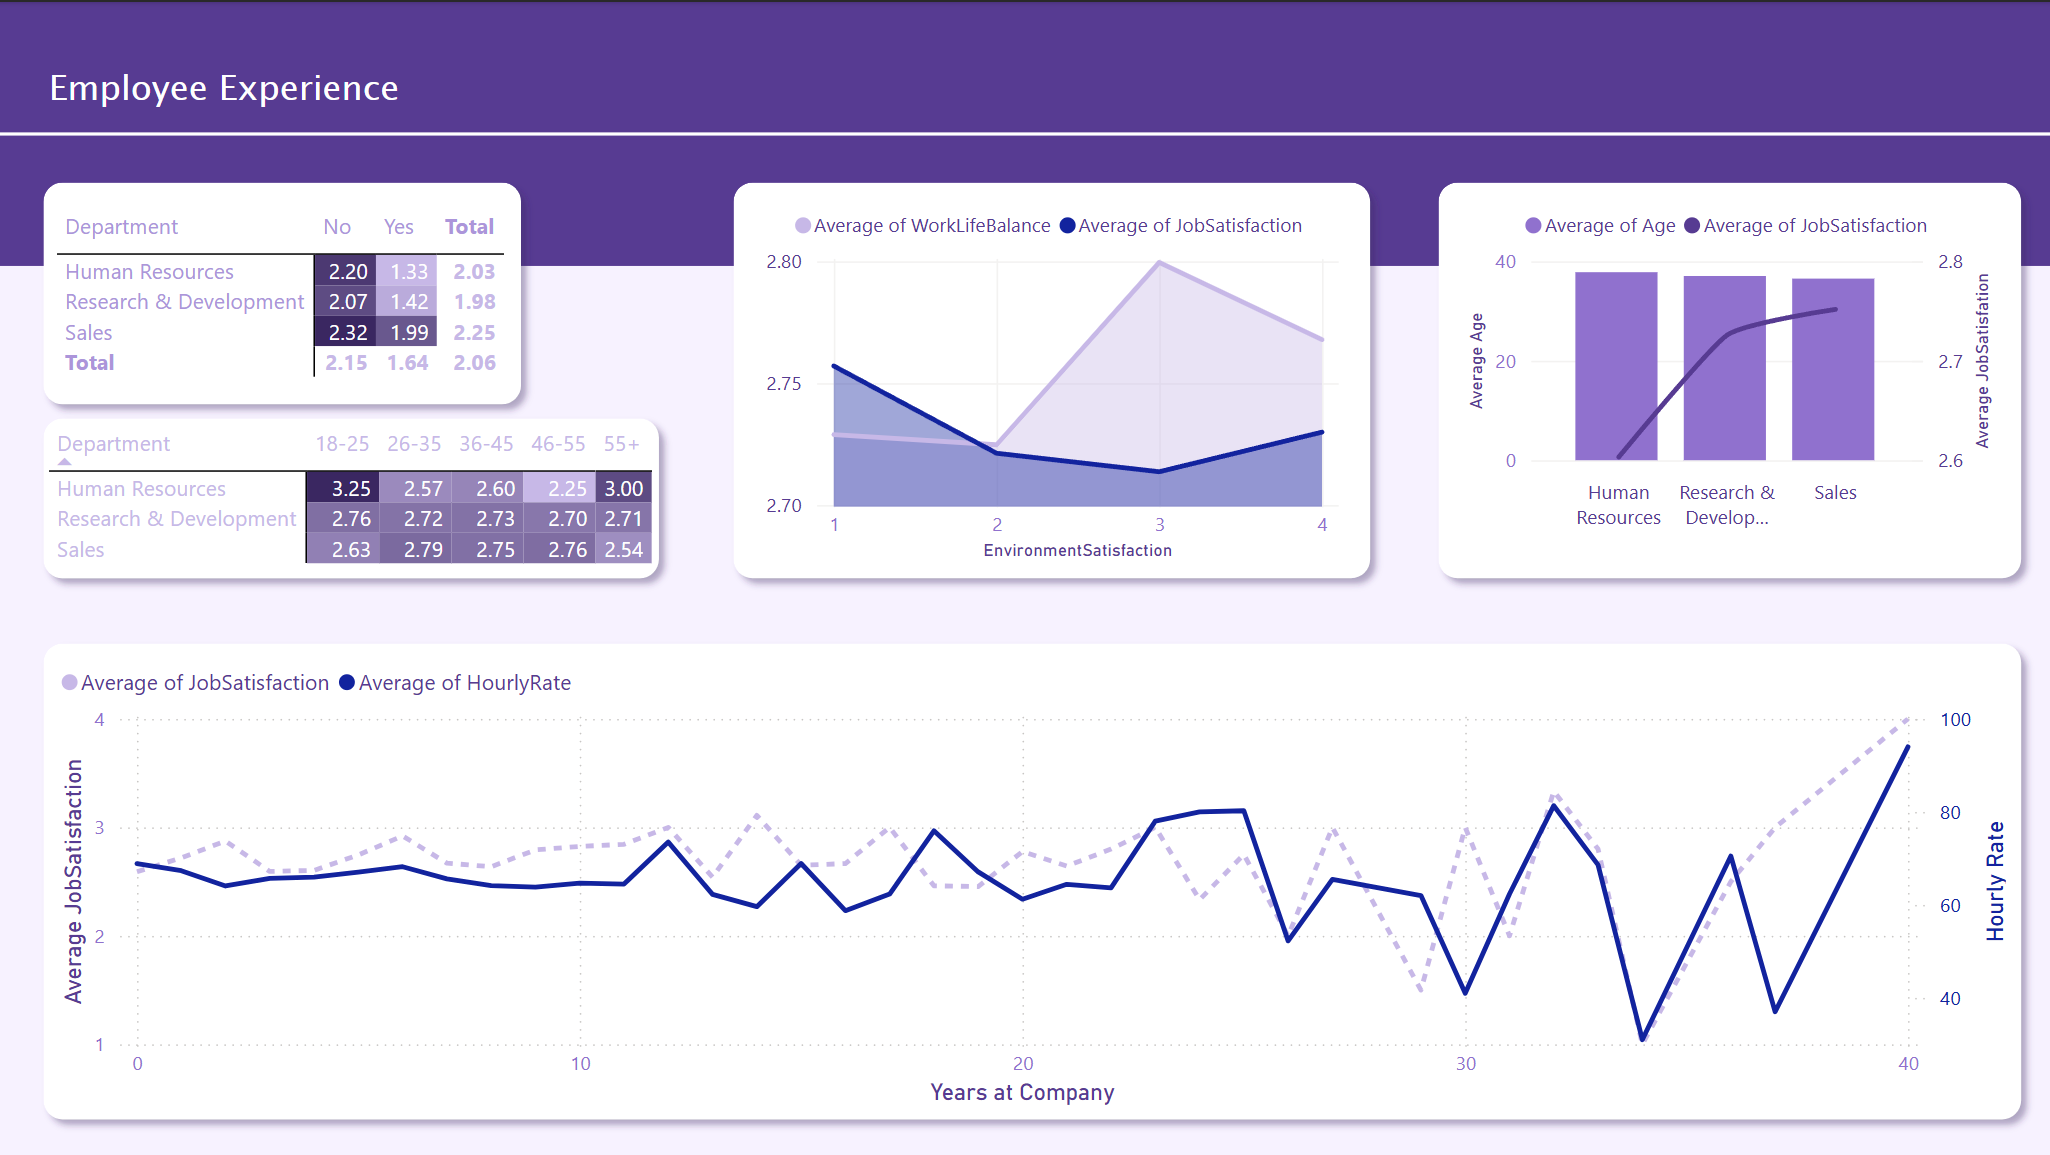

The dashboard page shown, as its layout file describes it:
{"tool":"powerbi","page":{"name":"Employee Experience","canvas":[1280,720],"ordinal":1},"visuals":[{"type":"shape","box":[18.1,391.2,1252.2,315.1],"z":0},{"type":"shape","box":[18.1,250.8,402.4,117.9],"z":1000},{"type":"shape","box":[0,0,1280.3,164.7],"z":2000},{"type":"shape","box":[888.5,103.6,381.8,265.2],"z":3000},{"type":"shape","box":[448.6,103.6,415.5,265.2],"z":4000},{"type":"shape","box":[18.1,103.6,316.3,156.6],"z":5000},{"type":"lineClusteredColumnComboChart","fields":{"Category":["HR_Analytics.Department"],"Y":["Avg(HR_Analytics.Age)"],"Y2":["Avg(HR_Analytics.JobSatisfaction)"]},"box":[910.9,119.8,336.9,233.3],"z":6000},{"type":"lineChart","fields":{"Y":["Avg(HR_Analytics.JobSatisfaction)"],"Category":["HR_Analytics.YearsAtCompany"],"Y2":["Avg(HR_Analytics.HourlyRate)"]},"box":[32.4,404.3,1223.5,289.5],"z":7000},{"type":"areaChart","fields":{"Y":["Avg(HR_Analytics.WorkLifeBalance)","Avg(HR_Analytics.JobSatisfaction)"],"Category":["HR_Analytics.EnvironmentSatisfaction"]},"box":[472.3,119.8,368.1,233.3],"z":8000},{"type":"pivotTable","fields":{"Rows":["HR_Analytics.Department"],"Columns":["HR_Analytics.AgeGroup"],"Values":["Avg(HR_Analytics.JobSatisfaction)"]},"box":[25.6,260.2,388.1,99.8],"z":9000},{"type":"pivotTable","fields":{"Rows":["HR_Analytics.Department"],"Columns":["HR_Analytics.Attrition"],"Values":["Avg(HR_Analytics.JobLevel)"]},"box":[30.6,124.8,291.4,114.8],"z":10000},{"type":"textbox","box":[25.6,33.1,240.8,49.3],"z":11000},{"type":"shape","box":[0,37.4,1280.3,89.8],"z":12000}]}

Visuals, with their boxes in screenshot pixels (x1, y1, x2, y2), scaled from the page's 1280x720 canvas onto the 2050x1155 screenshot:
shape: (29, 628, 2034, 1133)
shape: (29, 402, 673, 591)
shape: (0, 0, 2049, 264)
shape: (1423, 166, 2034, 592)
shape: (718, 166, 1384, 592)
shape: (29, 166, 536, 417)
lineClusteredColumnComboChart - HR_Analytics.Department x Avg(HR_Analytics.Age): (1459, 192, 1998, 566)
lineChart - Avg(HR_Analytics.JobSatisfaction) x HR_Analytics.YearsAtCompany: (52, 649, 2011, 1113)
areaChart - Avg(HR_Analytics.WorkLifeBalance) x Avg(HR_Analytics.JobSatisfaction): (756, 192, 1346, 566)
pivotTable - HR_Analytics.Department x HR_Analytics.AgeGroup: (41, 417, 663, 578)
pivotTable - HR_Analytics.Department x HR_Analytics.Attrition: (49, 200, 516, 384)
textbox: (41, 53, 427, 132)
shape: (0, 60, 2049, 204)
